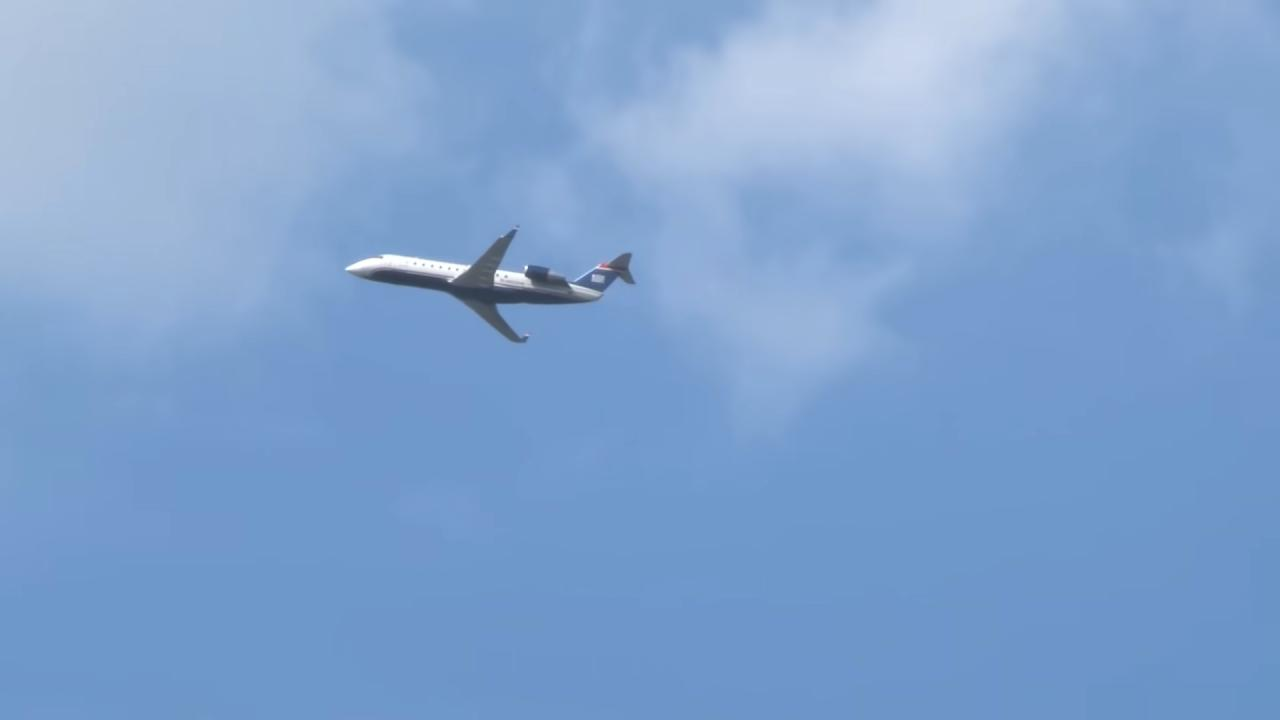Airplane: (330, 215, 652, 353)
